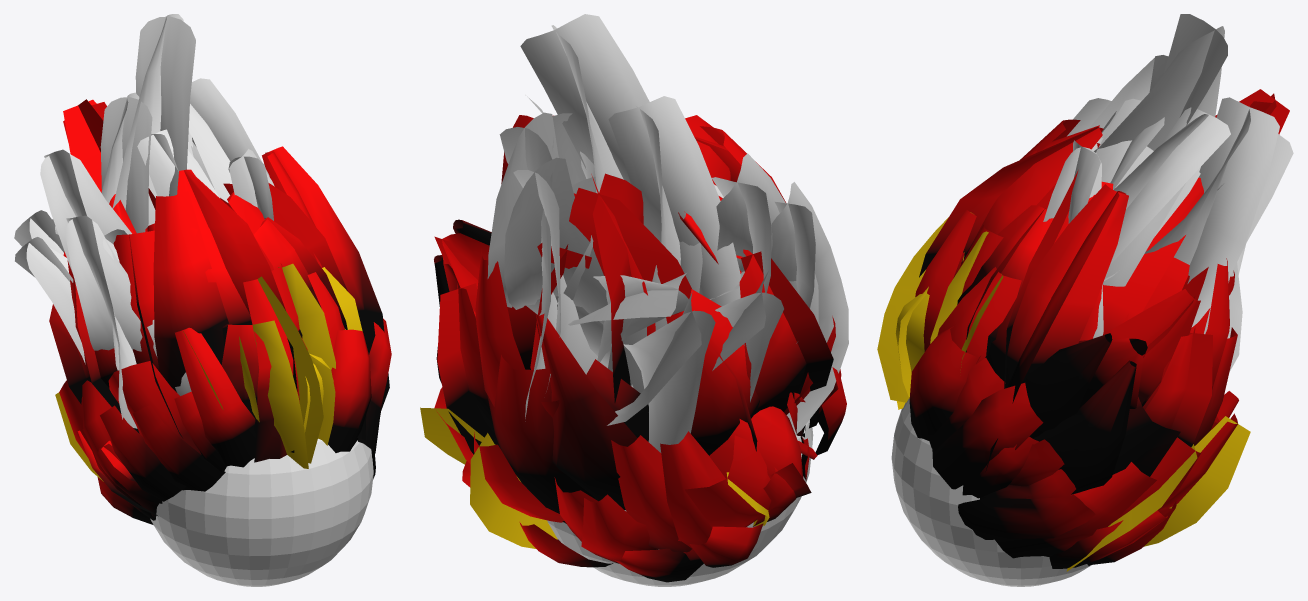
The model's file is Hair_Merge03.fbx.
3 renders of one model, left to right at view 1: azimuth 30°, elevation 25°; view 2: azimuth 150°, elevation 25°; view 3: azimuth 270°, elevation 25°, orthographic. The views are drawn at different scales.
Parts seen in each view (by area): view 1: gp_Plane.012_coll|Plane.012|Dupli|, 球体, gp_Plane.072_coll|平面.008|Dupli|1, gp_Plane.072_coll.001|平面.018|Dupli|2, gp_Plane.050_coll|Plane.061|Dupli|1, gp_Plane.050_coll|Plane.066|Dupli|2, gp_Plane.050_coll|Plane.004|Dupli|31, gp_Plane.072_coll|平面.009|Dupli|2, gp_Plane.072_coll|平面.015|Dupli|7, gp_Plane.072_coll.001|平面.017|Dupli|1, gp_Plane.050_coll|Plane.072|Dupli|4, gp_Plane.050_coll|Plane.108|Dupli|23 (+17 smaller); view 2: gp_Plane.012_coll|Plane.012|Dupli|, gp_Plane.072_coll|平面.009|Dupli|2, gp_Plane.072_coll|平面.008|Dupli|1, gp_Plane.072_coll|平面.014|Dupli|6, gp_Plane.072_coll.001|平面.021|Dupli|5, gp_Plane.072_coll.001|平面.018|Dupli|2, gp_Plane.072_coll|平面.013|Dupli|5, gp_Plane.072_coll.001|平面.017|Dupli|1, gp_Plane.050_coll|Plane.100|Dupli|19, gp_Plane.050_coll|Plane.098|Dupli|18, gp_Plane.050_coll|Plane.092|Dupli|15, gp_Plane.072_coll.001|平面.023|Dupli|7 (+15 smaller); view 3: gp_Plane.012_coll|Plane.012|Dupli|, gp_Plane.072_coll|平面.013|Dupli|5, 球体, gp_Plane.072_coll|平面.015|Dupli|7, gp_Plane.072_coll|平面.008|Dupli|1, gp_Plane.050_coll|Plane.002|Dupli|34, gp_Plane.050_coll|Plane.061|Dupli|1, gp_Plane.050_coll|Plane.006|Dupli|36, gp_Plane.050_coll|Plane.072|Dupli|4, gp_Plane.050_coll|Plane.079|Dupli|8, gp_Plane.050_coll|Plane.070|Dupli|3, gp_Plane.050_coll|Plane.111|Dupli|26 (+16 smaller).
Boxes of the visible parts, x1,y1,x2,y2 form: gp_Plane.012_coll|Plane.012|Dupli|: [49, 99, 389, 452]; 球体: [150, 438, 373, 586]; gp_Plane.072_coll|平面.008|Dupli|1: [112, 14, 195, 225]; gp_Plane.072_coll.001|平面.018|Dupli|2: [65, 215, 191, 428]; gp_Plane.050_coll|Plane.061|Dupli|1: [243, 276, 323, 463]; gp_Plane.050_coll|Plane.066|Dupli|2: [175, 327, 256, 467]; gp_Plane.050_coll|Plane.004|Dupli|31: [221, 320, 308, 468]; gp_Plane.072_coll|平面.009|Dupli|2: [100, 92, 152, 233]; gp_Plane.072_coll|平面.015|Dupli|7: [188, 78, 269, 202]; gp_Plane.072_coll.001|平面.017|Dupli|1: [40, 149, 131, 370]; gp_Plane.050_coll|Plane.072|Dupli|4: [328, 329, 371, 452]; gp_Plane.050_coll|Plane.108|Dupli|23: [133, 405, 225, 491]; gp_Plane.012_coll|Plane.012|Dupli|: [434, 115, 833, 523]; gp_Plane.072_coll|平面.009|Dupli|2: [608, 96, 740, 393]; gp_Plane.072_coll|平面.008|Dupli|1: [520, 14, 723, 309]; gp_Plane.072_coll|平面.014|Dupli|6: [504, 157, 607, 391]; gp_Plane.072_coll.001|平面.021|Dupli|5: [607, 291, 715, 452]; gp_Plane.072_coll.001|平面.018|Dupli|2: [771, 182, 848, 434]; gp_Plane.072_coll|平面.013|Dupli|5: [487, 112, 633, 421]; gp_Plane.072_coll.001|平面.017|Dupli|1: [712, 153, 818, 324]; gp_Plane.050_coll|Plane.100|Dupli|19: [611, 435, 691, 552]; gp_Plane.050_coll|Plane.098|Dupli|18: [685, 435, 771, 527]; gp_Plane.050_coll|Plane.092|Dupli|15: [660, 431, 725, 560]; gp_Plane.072_coll.001|平面.023|Dupli|7: [568, 273, 688, 361]; gp_Plane.012_coll|Plane.012|Dupli|: [919, 89, 1289, 565]; gp_Plane.072_coll|平面.013|Dupli|5: [1144, 97, 1279, 371]; 球体: [891, 398, 1091, 586]; gp_Plane.072_coll|平面.015|Dupli|7: [1102, 107, 1230, 286]; gp_Plane.072_coll|平面.008|Dupli|1: [1094, 14, 1227, 152]; gp_Plane.050_coll|Plane.002|Dupli|34: [932, 383, 1043, 489]; gp_Plane.050_coll|Plane.061|Dupli|1: [877, 210, 976, 402]; gp_Plane.050_coll|Plane.006|Dupli|36: [958, 494, 1095, 539]; gp_Plane.050_coll|Plane.072|Dupli|4: [909, 324, 980, 440]; gp_Plane.050_coll|Plane.079|Dupli|8: [995, 462, 1156, 558]; gp_Plane.050_coll|Plane.070|Dupli|3: [937, 267, 1021, 372]; gp_Plane.050_coll|Plane.111|Dupli|26: [1144, 416, 1250, 546].
Size of the model in its own units: 305 by 484 by 330.
